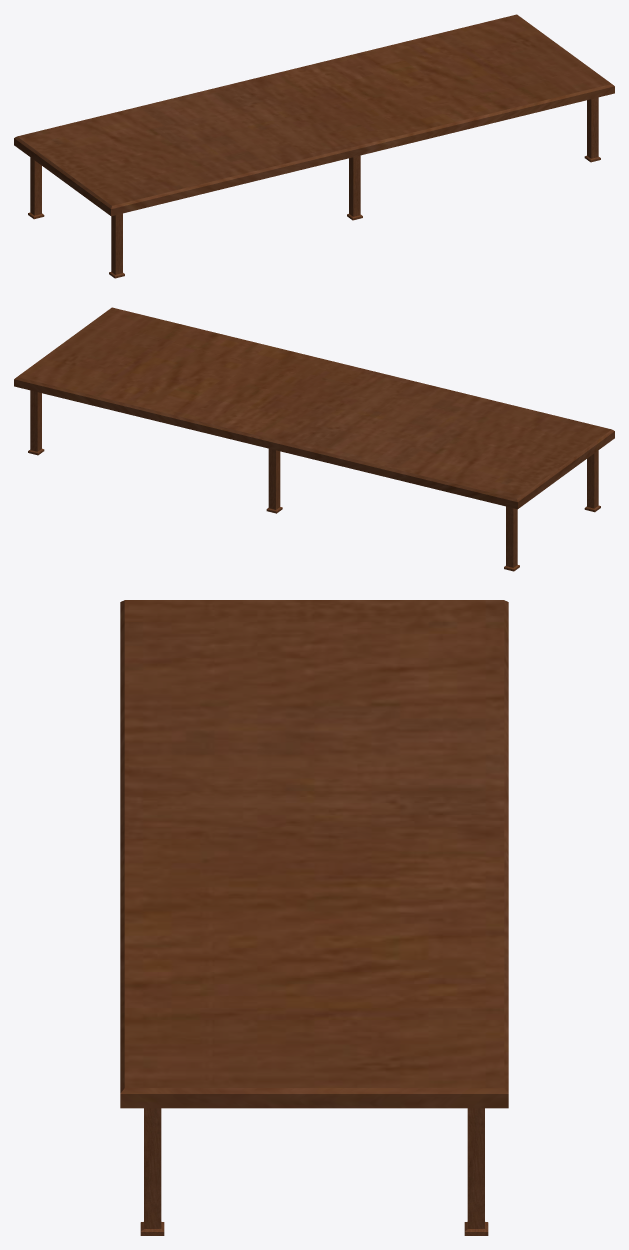
File: Dining Table.fbx
3 views of the same model, one above another, from view 1: azimuth 30°, elevation 25°; view 2: azimuth 150°, elevation 25°; view 3: azimuth 270°, elevation 25° (orthographic). The views are drawn at different scales.
Visible parts, largest first — view 1: Tabletop, Leg_5, Leg_1, Leg_3, Leg_2; view 2: Tabletop, Leg_4, Leg_6, Leg_2, Leg_1; view 3: Tabletop, Leg_5, Leg_6.
Boxes of the visible parts, x1,y1,x2,y2 form: Tabletop: (14,14,614,216); Leg_5: (584,97,600,162); Leg_1: (109,213,124,278); Leg_3: (347,155,362,220); Leg_2: (28,157,44,219); Tabletop: (14,307,614,509); Leg_4: (266,448,282,513); Leg_6: (28,390,44,455); Leg_2: (504,506,519,571); Leg_1: (584,450,600,512); Tabletop: (120,600,508,1108); Leg_5: (140,1108,164,1235); Leg_6: (464,1108,488,1235).
Size of the model in its own units: 634 by 92.9 by 212.
Materials: 7 (7 with a texture image).
